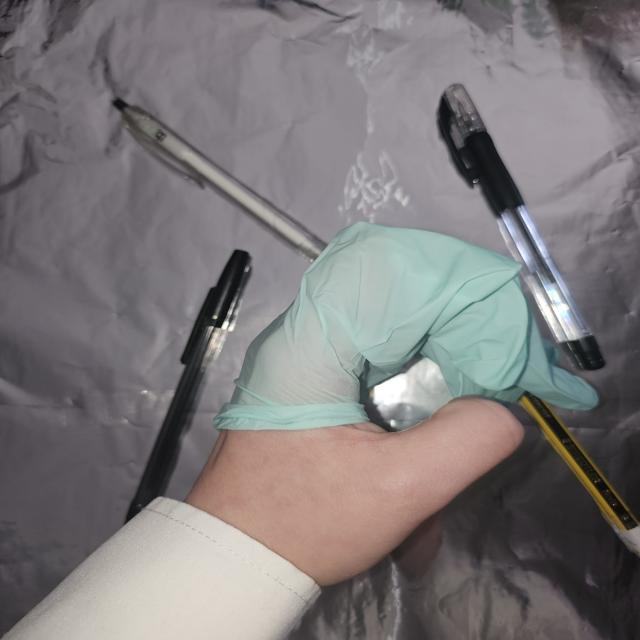glove_partial: (180, 221, 599, 593)
